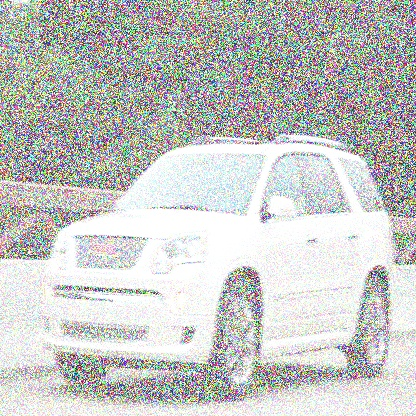Vehicle: (40, 132, 397, 404)
